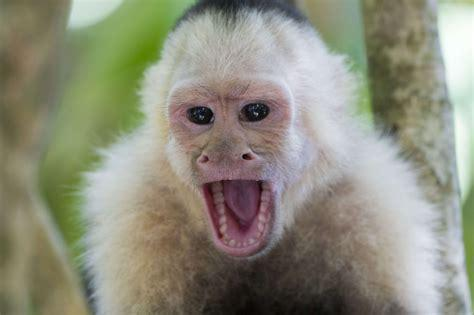monkey: (93, 1, 441, 315)
